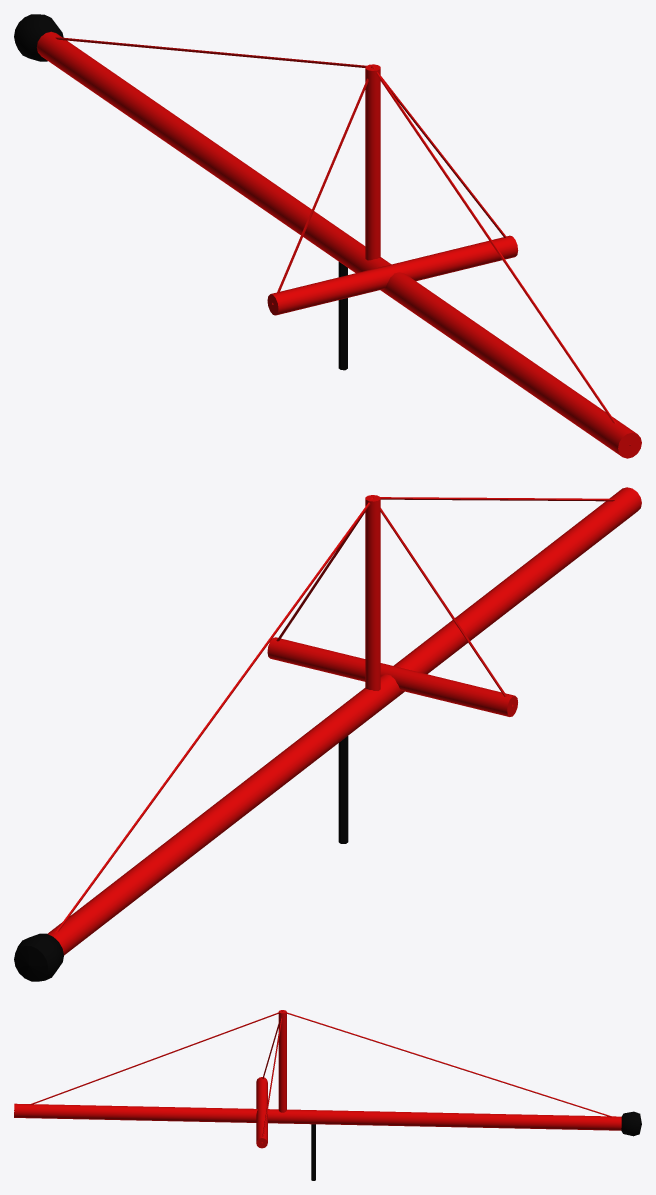
The model's file is glider_keel.glb.
3 renders of one model, top to bottom at view 1: azimuth 30°, elevation 25°; view 2: azimuth 150°, elevation 25°; view 3: azimuth 270°, elevation 25°, orthographic. The views are drawn at different scales.
Visible parts, largest first — view 1: glider_keel; view 2: glider_keel; view 3: glider_keel.
Boxes of the visible parts, left/top/right/bottom form: glider_keel: left=14, top=14, right=641, bottom=458; glider_keel: left=14, top=487, right=641, bottom=981; glider_keel: left=14, top=1010, right=641, bottom=1180.
Size of the model in its own units: 0.7054 by 0.9031 by 3.04.
